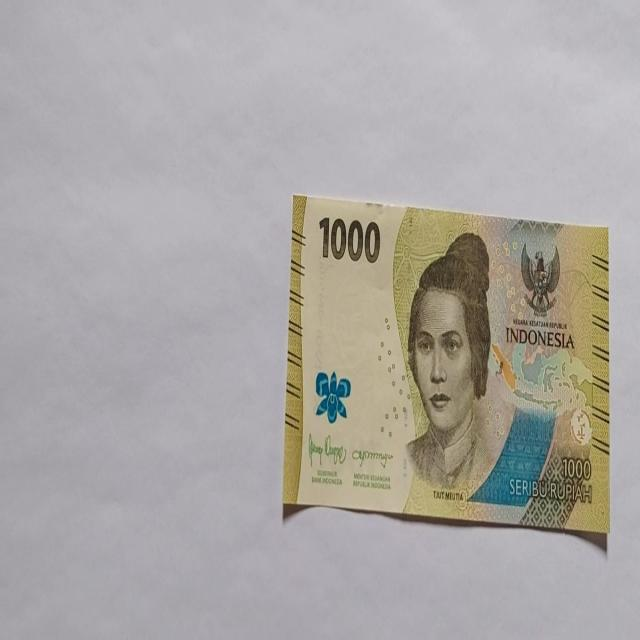seribu rupiah kertas: (283, 192, 609, 534)
